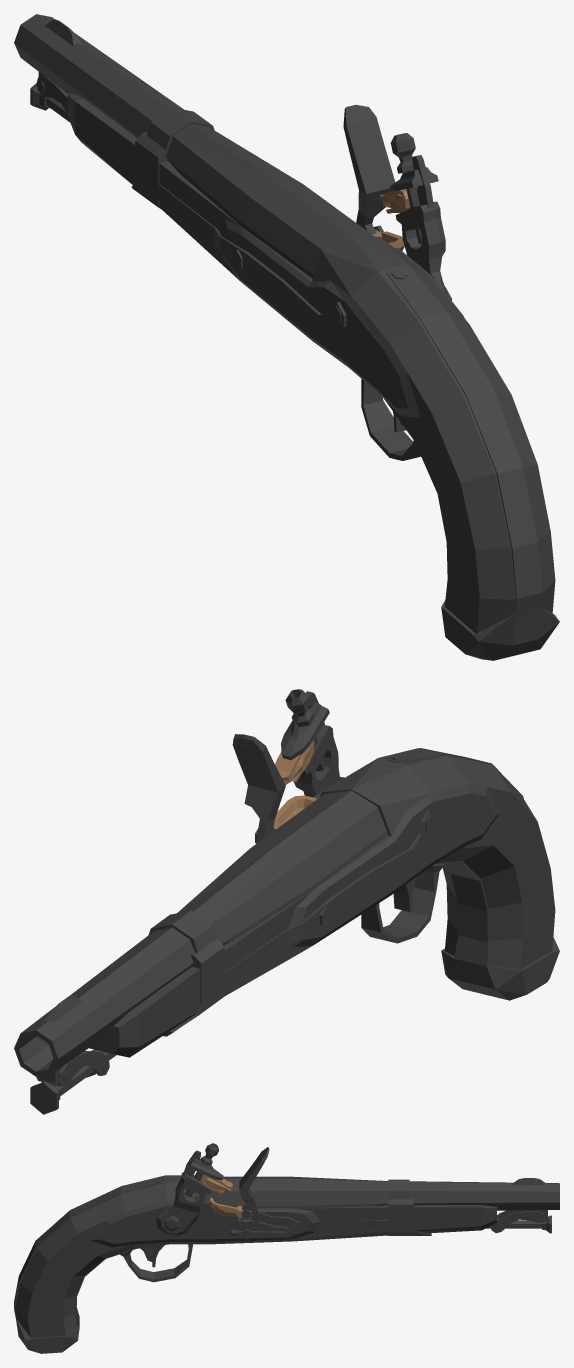
Rendered from pistol_15.glb.
The picture shows the model from 3 angles, top to bottom: view 1: azimuth 30°, elevation 25°; view 2: azimuth 150°, elevation 25°; view 3: azimuth 270°, elevation 25°; orthographic projection. The views are drawn at different scales.
Visible parts, largest first — view 1: p10_paint, p0_paint, p35_paint, p11_paint, p18_paint, p22_paint, p29_paint, p32_paint, p28_paint; view 2: p10_paint, p0_paint, p11_paint, p22_paint, p18_paint, p32_paint, p29_paint, p27_paint, p1_paint, p3_paint, p28_paint, p20_accent (+2 smaller); view 3: p10_paint, p0_paint, p14_paint, p29_paint, p11_paint, p35_paint, p22_paint, p18_paint, p32_paint, p4_paint, p17_paint, p1_paint (+4 smaller).
Boxes of the visible parts, x1=… form: p10_paint: x1=67, y1=93, x2=555, y2=633; p0_paint: x1=14, y1=14, x2=373, y2=278; p35_paint: x1=387, y1=265, x2=542, y2=616; p11_paint: x1=131, y1=107, x2=346, y2=331; p18_paint: x1=343, y1=104, x2=395, y2=234; p22_paint: x1=441, y1=600, x2=559, y2=660; p29_paint: x1=395, y1=201, x2=448, y2=296; p32_paint: x1=361, y1=379, x2=420, y2=460; p28_paint: x1=390, y1=133, x2=421, y2=243; p10_paint: x1=89, y1=748, x2=555, y2=1057; p0_paint: x1=14, y1=790, x2=387, y2=1076; p11_paint: x1=148, y1=810, x2=437, y2=1036; p22_paint: x1=435, y1=861, x2=559, y2=1000; p18_paint: x1=232, y1=734, x2=285, y2=843; p32_paint: x1=361, y1=863, x2=443, y2=943; p29_paint: x1=294, y1=724, x2=344, y2=797; p27_paint: x1=281, y1=702, x2=329, y2=760; p1_paint: x1=30, y1=1051, x2=116, y2=1114; p3_paint: x1=57, y1=1051, x2=109, y2=1086; p28_paint: x1=285, y1=689, x2=325, y2=771; p20_accent: x1=273, y1=795, x2=316, y2=829; p10_paint: x1=14, y1=1175, x2=496, y2=1338; p0_paint: x1=211, y1=1176, x2=559, y2=1210; p14_paint: x1=116, y1=1200, x2=299, y2=1240; p29_paint: x1=156, y1=1172, x2=212, y2=1235; p11_paint: x1=388, y1=1179, x2=431, y2=1235; p35_paint: x1=14, y1=1177, x2=165, y2=1317; p22_paint: x1=16, y1=1247, x2=141, y2=1353; p18_paint: x1=239, y1=1147, x2=269, y2=1222; p32_paint: x1=120, y1=1244, x2=192, y2=1282; p4_paint: x1=491, y1=1211, x2=546, y2=1233; p17_paint: x1=229, y1=1218, x2=289, y2=1235; p1_paint: x1=486, y1=1215, x2=551, y2=1233.
Size of the model in its own units: 0.0484 by 0.1542 by 0.35.
